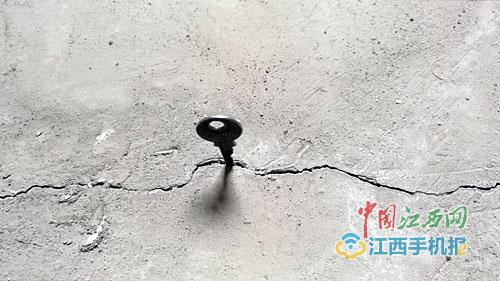Crack: (1, 156, 500, 200)
